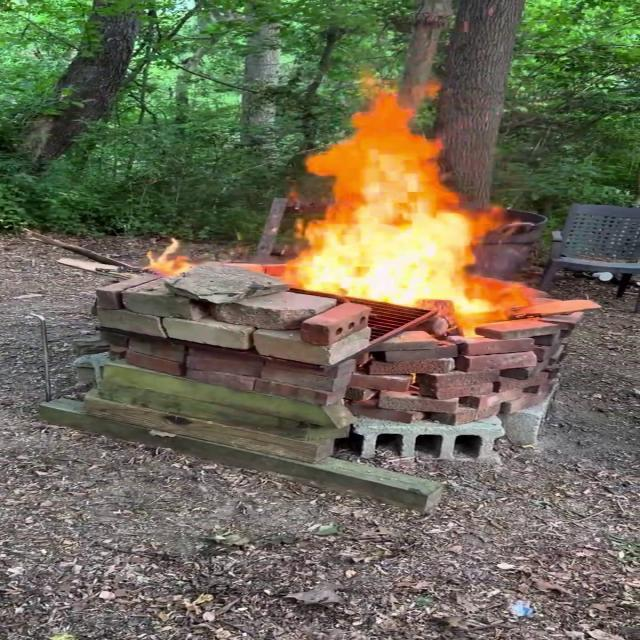Fire: (270, 74, 550, 334), (140, 237, 197, 280)
